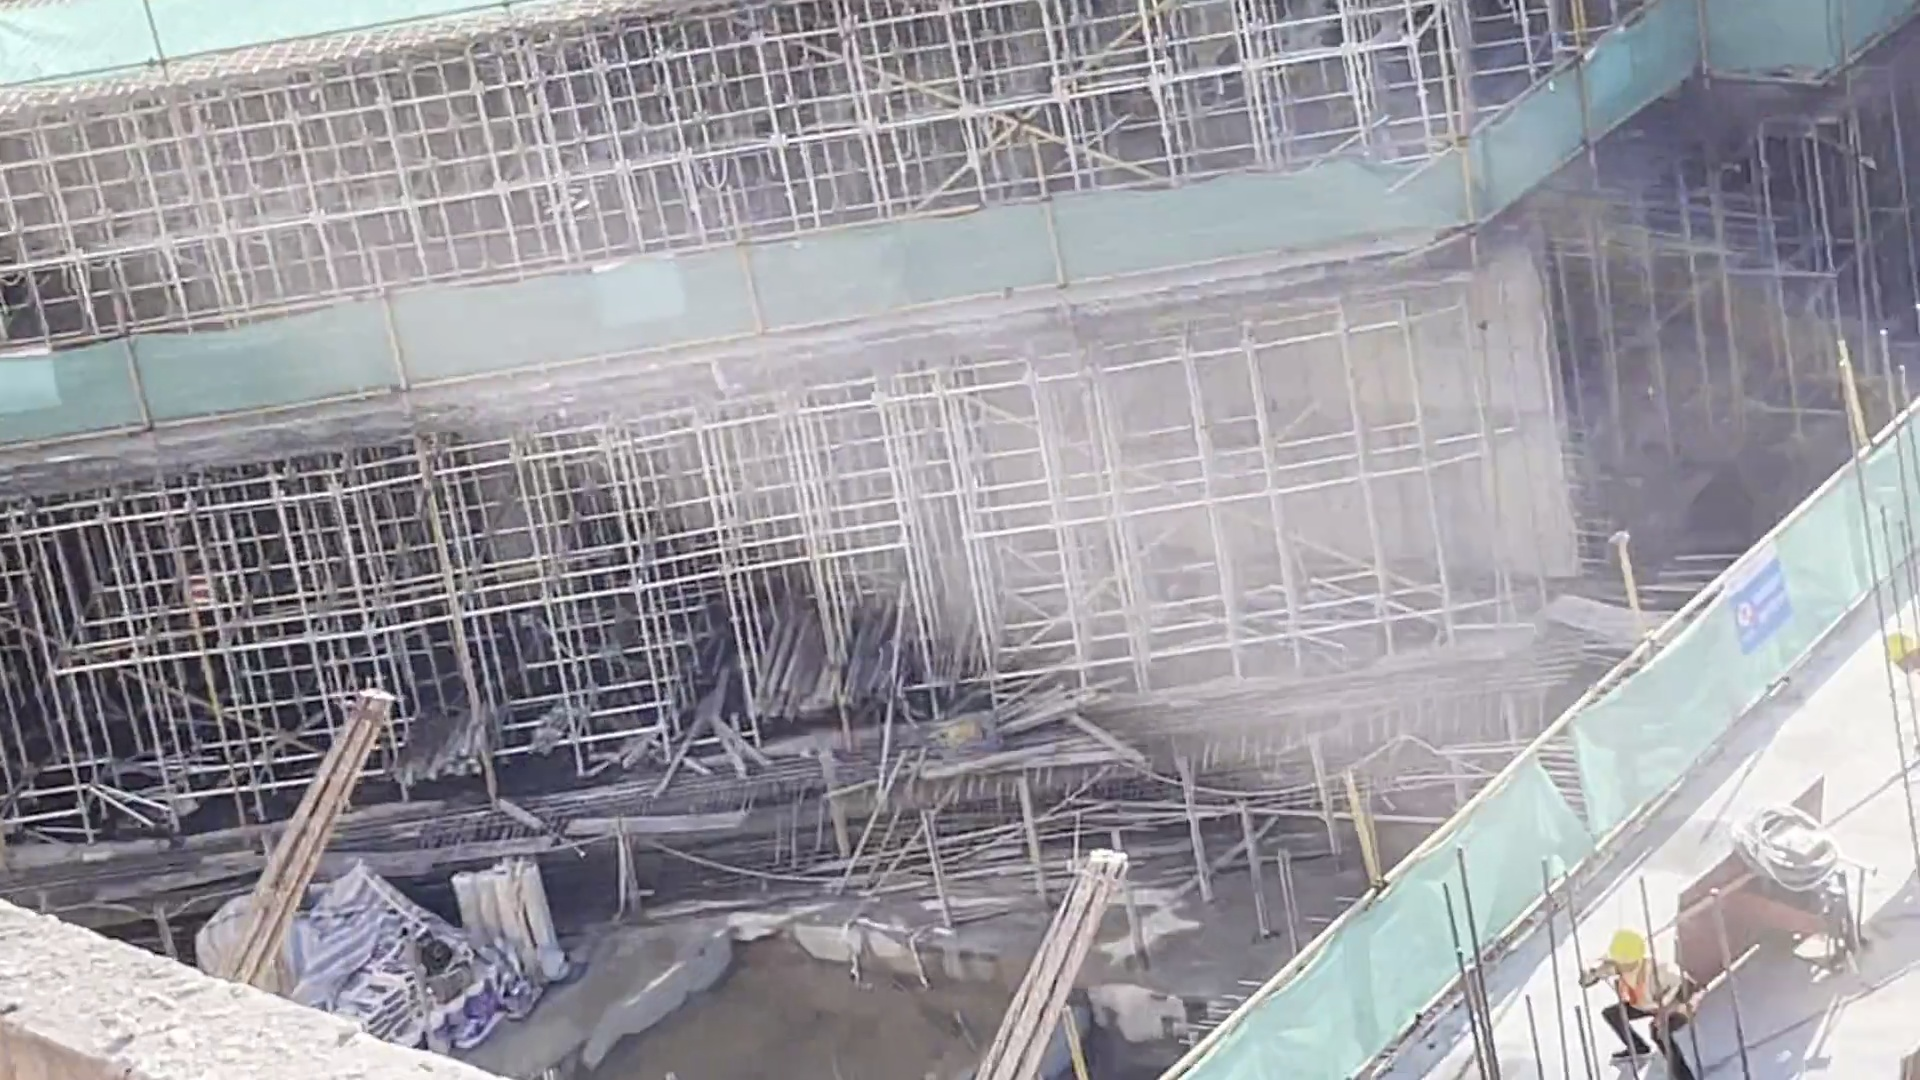cutter: (1675, 807, 1853, 977)
helmet: (1605, 930, 1648, 964), (1888, 631, 1919, 657)
person: (1588, 926, 1699, 1080), (1884, 631, 1920, 692)
slogan: (1734, 558, 1791, 643)
vest: (1600, 961, 1679, 1014)
